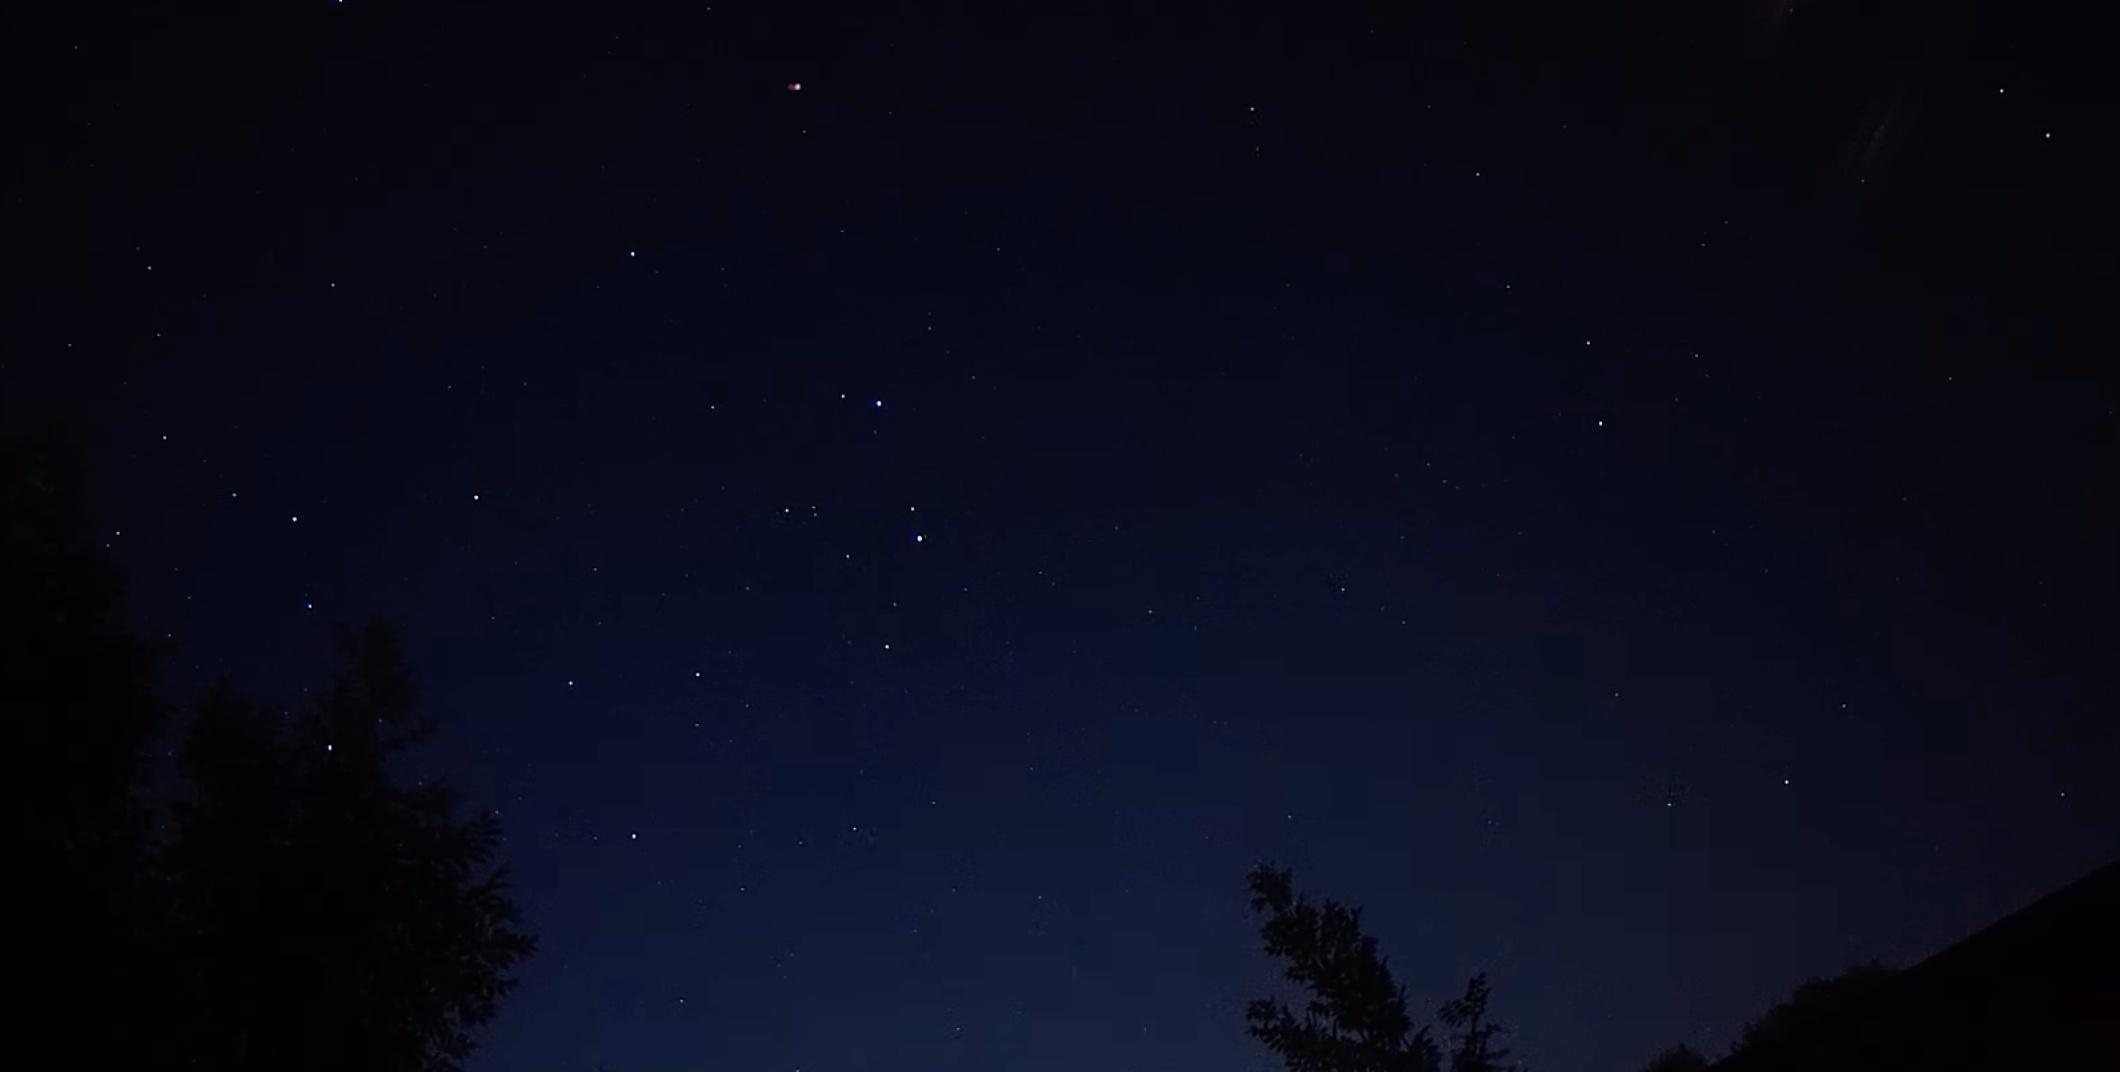Plane: (756, 68, 832, 103)
